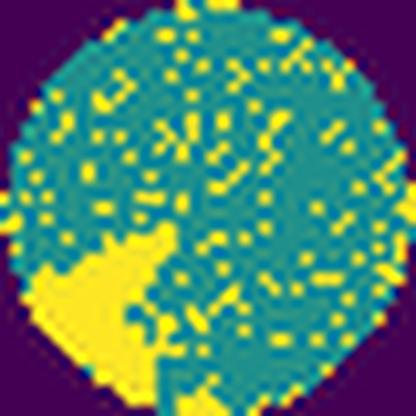Loc: (26, 221, 184, 406), (178, 383, 229, 416)
